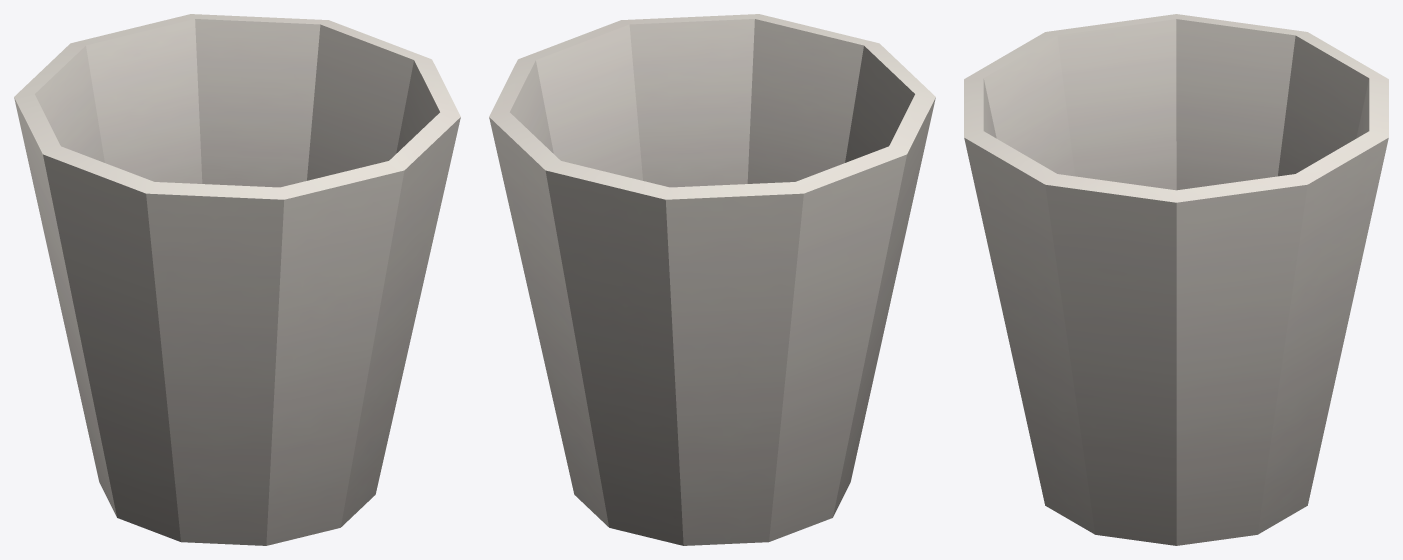
Rendered from WastebasketRoundSmall.fbx.
3 views of the same model, side by side, from view 1: azimuth 30°, elevation 25°; view 2: azimuth 150°, elevation 25°; view 3: azimuth 270°, elevation 25° (orthographic).
Parts seen in each view (by area): view 1: WastebasketRoundSmall; view 2: WastebasketRoundSmall; view 3: WastebasketRoundSmall.
Part boxes in pixels (x1,y1,x2,y2): WastebasketRoundSmall: (14, 14, 460, 545); WastebasketRoundSmall: (489, 14, 935, 545); WastebasketRoundSmall: (964, 14, 1388, 545).
Size of the model in its own units: 38.97 by 36.87 by 37.06.
